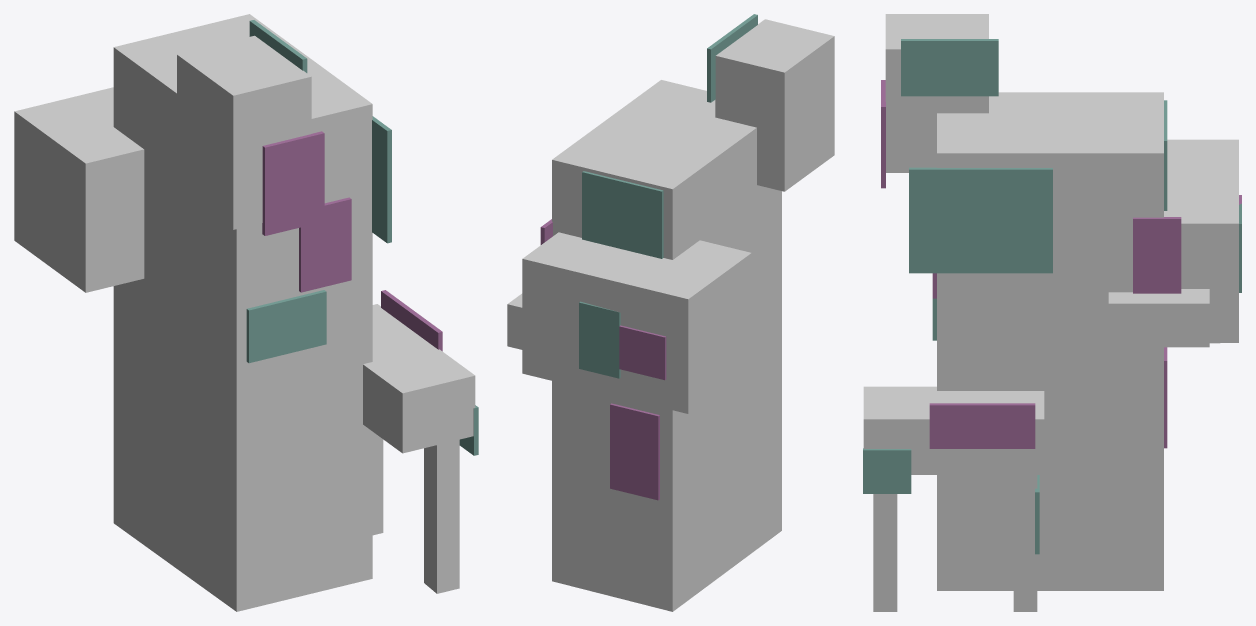
The model's file is building3.fbx.
3 views of the same model, side by side, from view 1: azimuth 30°, elevation 25°; view 2: azimuth 150°, elevation 25°; view 3: azimuth 270°, elevation 25° (orthographic). The views are drawn at different scales.
Parts seen in each view (by area): view 1: polySurface7; view 2: polySurface7; view 3: polySurface7.
Boxes of the visible parts, bbox=[...] form: polySurface7: bbox=[14, 14, 478, 611]; polySurface7: bbox=[507, 14, 834, 611]; polySurface7: bbox=[863, 14, 1241, 611].
Size of the model in its own units: 5.74 by 11.73 by 7.85.
